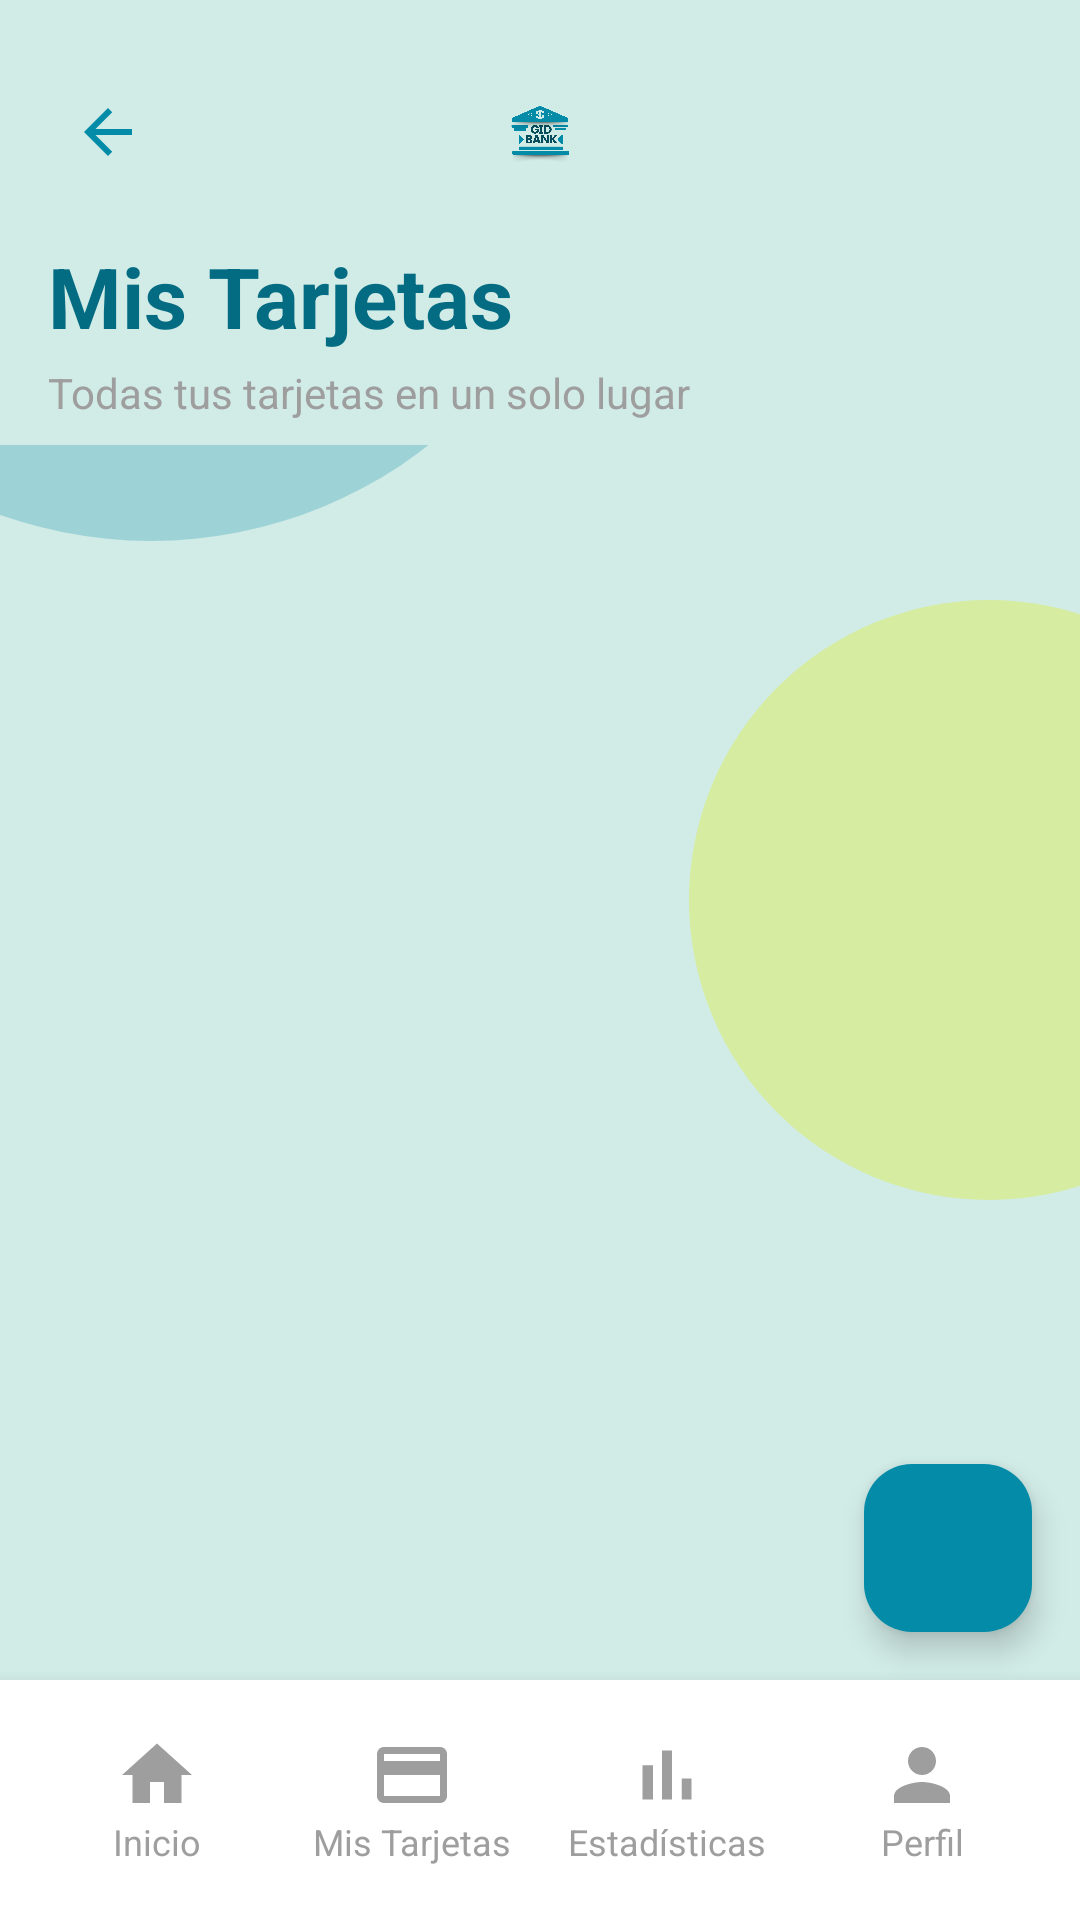

Icons on this 1080px x 1920px Android screen, each with its box as (x1, y1, x2, y2):
Atrás: (84, 108, 132, 156)
